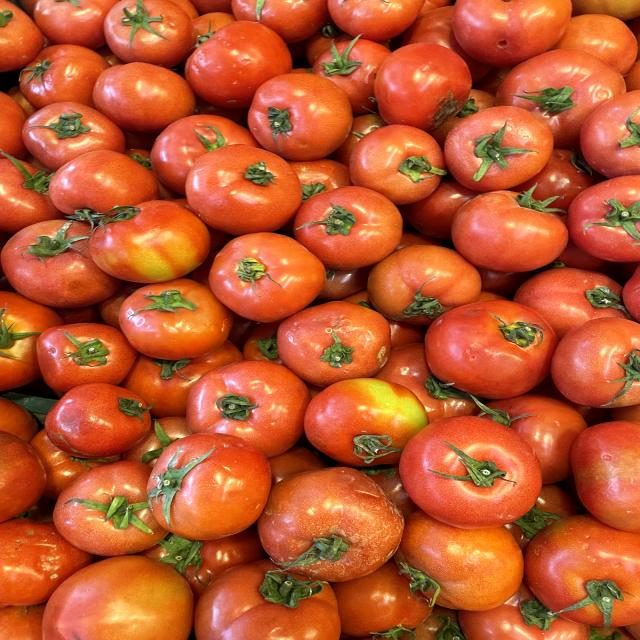tomato: (246, 459, 414, 580), (394, 412, 554, 531), (131, 422, 276, 534), (417, 286, 564, 396), (432, 96, 568, 197), (77, 190, 220, 285), (176, 131, 305, 234), (439, 179, 576, 274), (274, 285, 402, 385), (17, 376, 168, 457), (356, 235, 499, 319), (244, 64, 360, 161), (290, 176, 406, 270), (18, 314, 158, 390), (117, 278, 235, 360), (98, 0, 206, 68)
